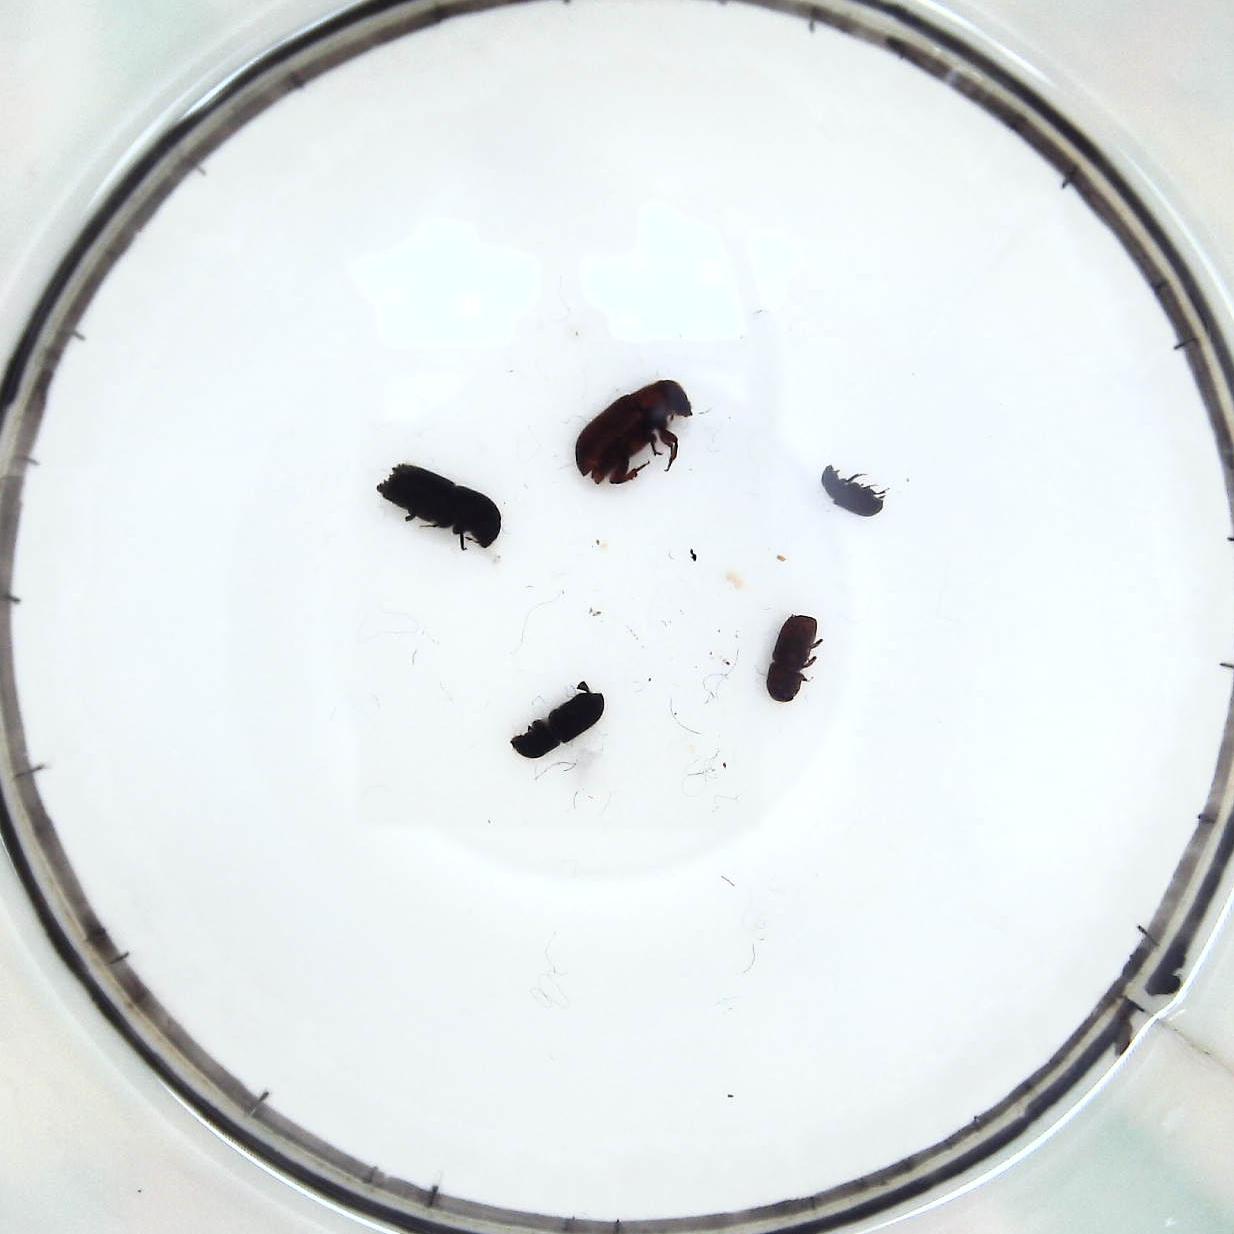Boerner: (374, 462, 504, 550)
Leconte: (575, 376, 701, 486)
Linnaeus: (765, 611, 826, 704)
armandi: (514, 687, 602, 756)
coleoptera: (817, 458, 890, 522)
